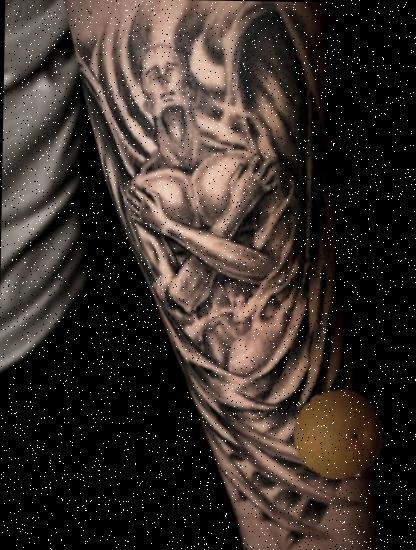Orange: (291, 388, 387, 484)
